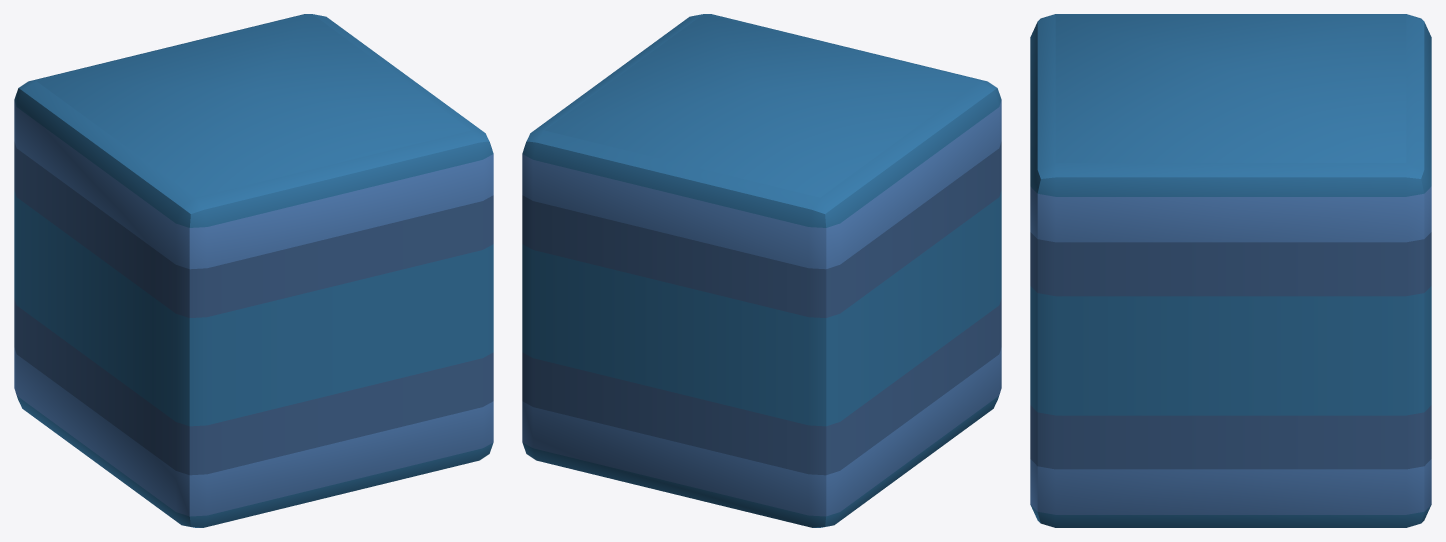
Rendered from Cube_Water_Single.fbx.
3 renders of one model, left to right at view 1: azimuth 30°, elevation 25°; view 2: azimuth 150°, elevation 25°; view 3: azimuth 270°, elevation 25°, orthographic. The views are drawn at different scales.
Visible parts, largest first — view 1: Cube_Water_Single; view 2: Cube_Water_Single; view 3: Cube_Water_Single.
Part boxes in pixels (x1,y1,x2,y2): Cube_Water_Single: (14,14,493,527); Cube_Water_Single: (522,14,1001,527); Cube_Water_Single: (1030,14,1431,527).
Size of the model in its own units: 200 by 209 by 200.
